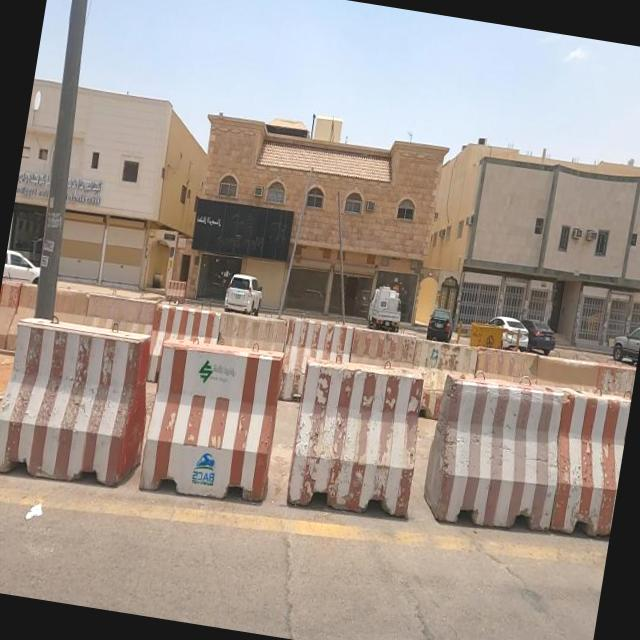debris: (167, 156, 343, 308), (0, 459, 78, 568)
